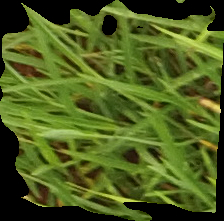grass: (1, 1, 223, 220)
